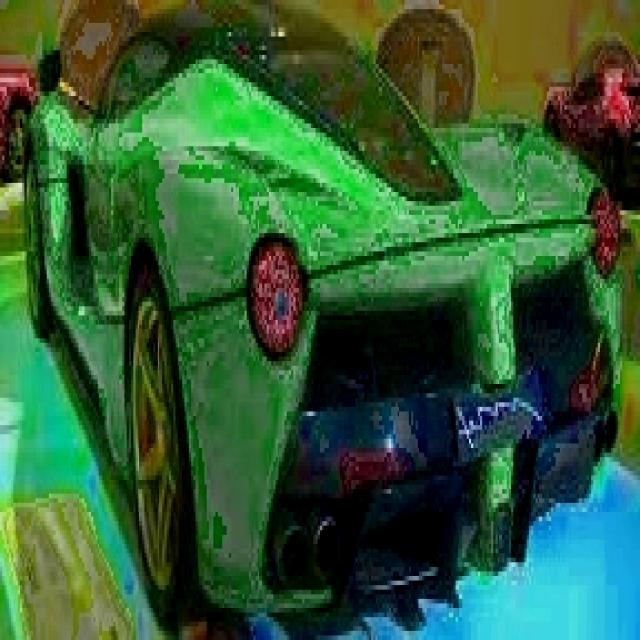green: (25, 0, 618, 626)
